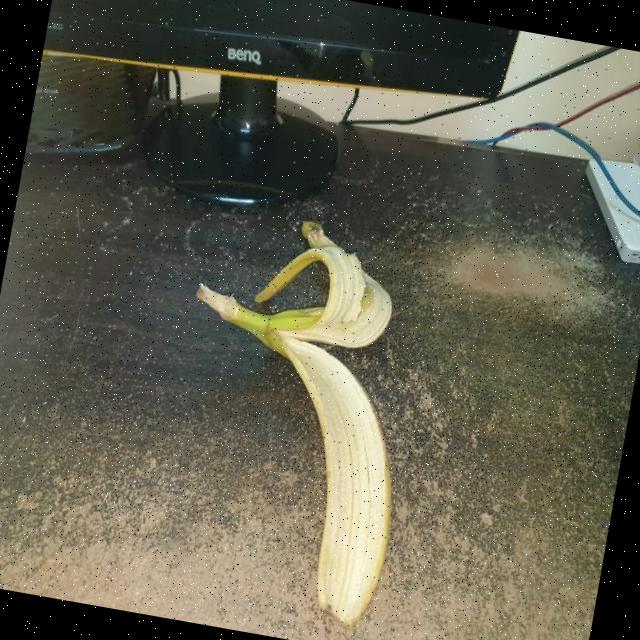banana-peel: (142, 201, 442, 632)
